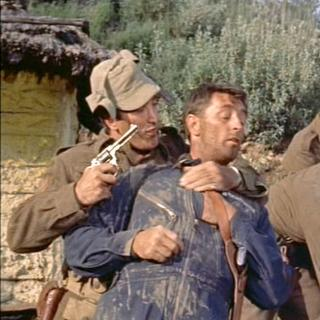gun: (76, 122, 138, 213)
